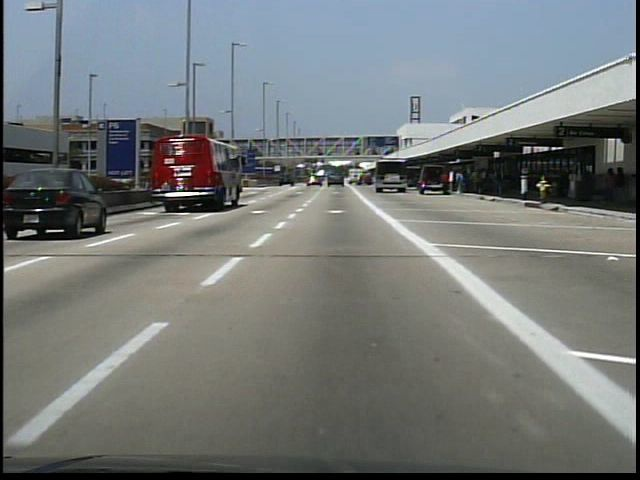person: (439, 168, 453, 200)
